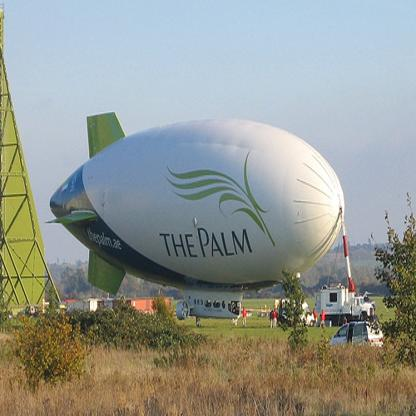Airship: (50, 111, 346, 295)
